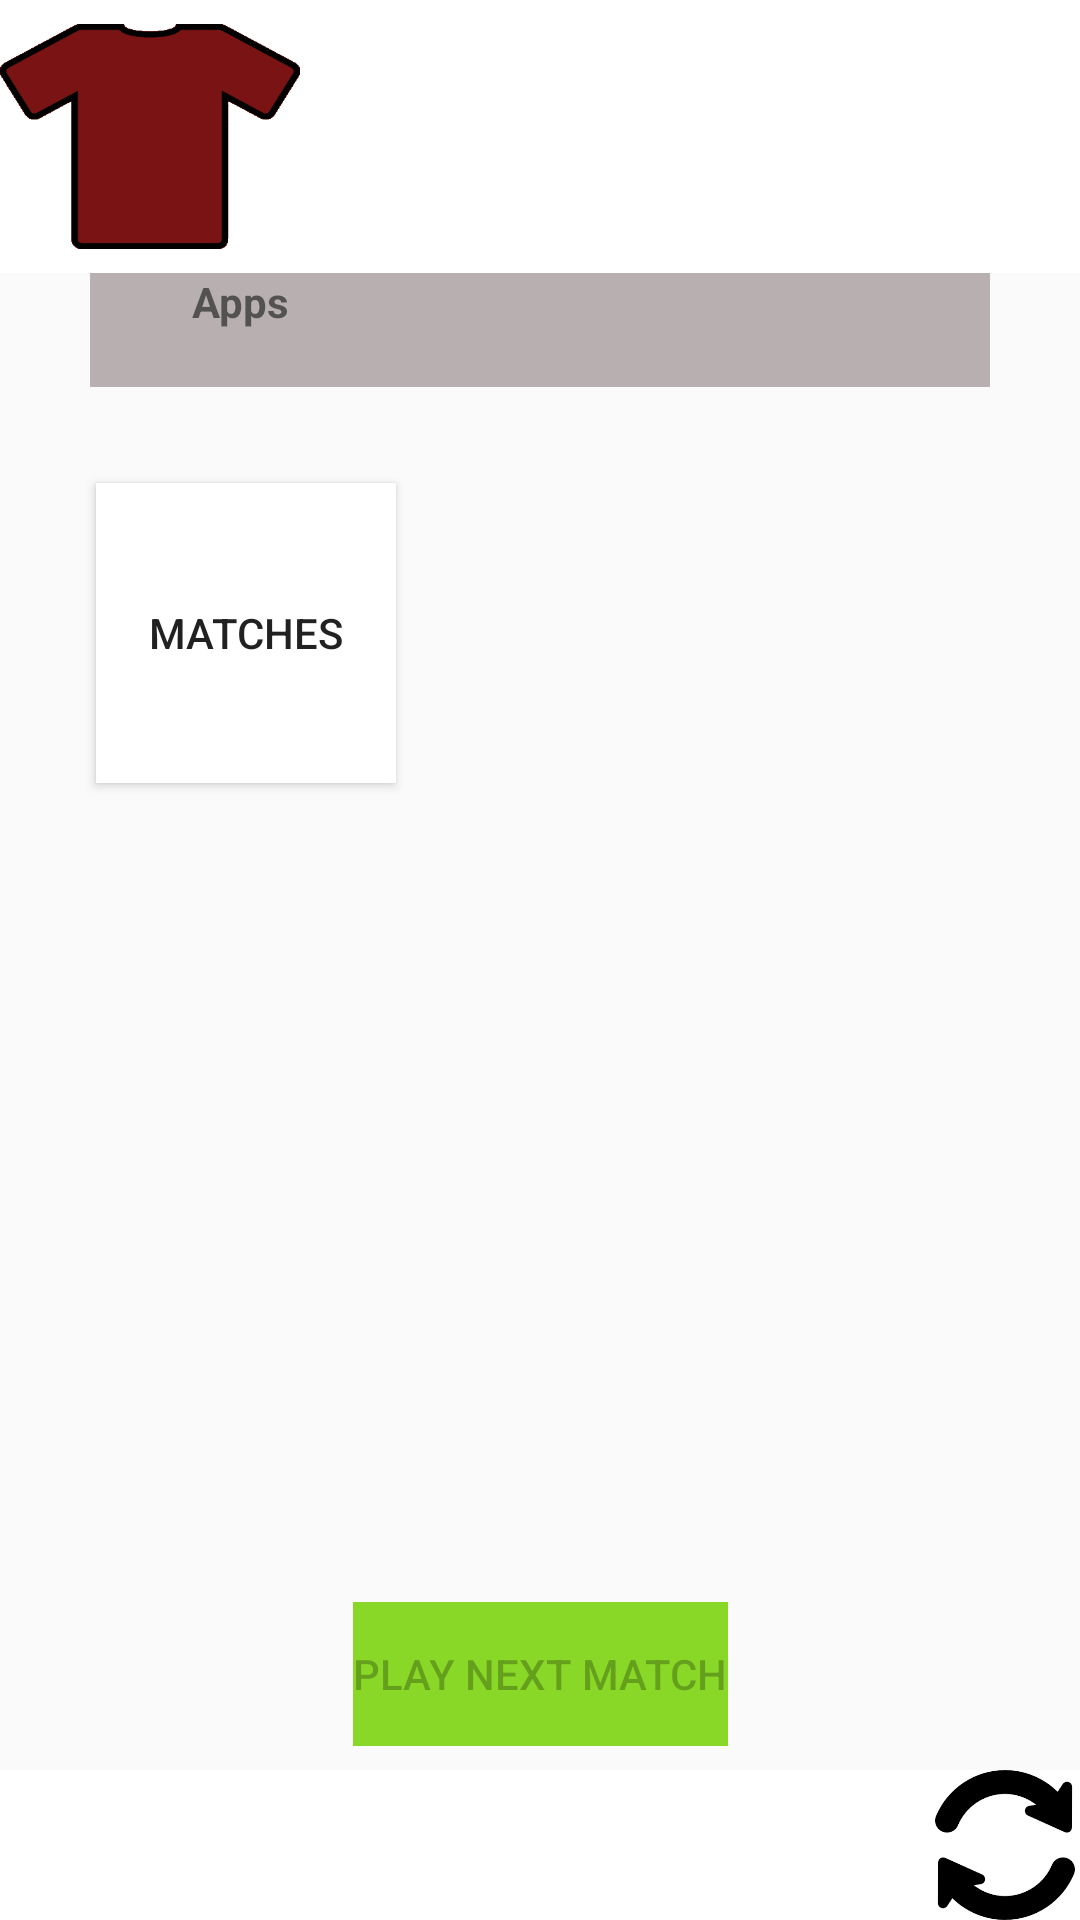

Named icons in this screenshot (1080×1920) and their bounding boxes, rect(x1, y1, x2, y2):
emptyshirt: rect(0, 24, 300, 249)
refreshbutton: rect(935, 1770, 1075, 1920)
